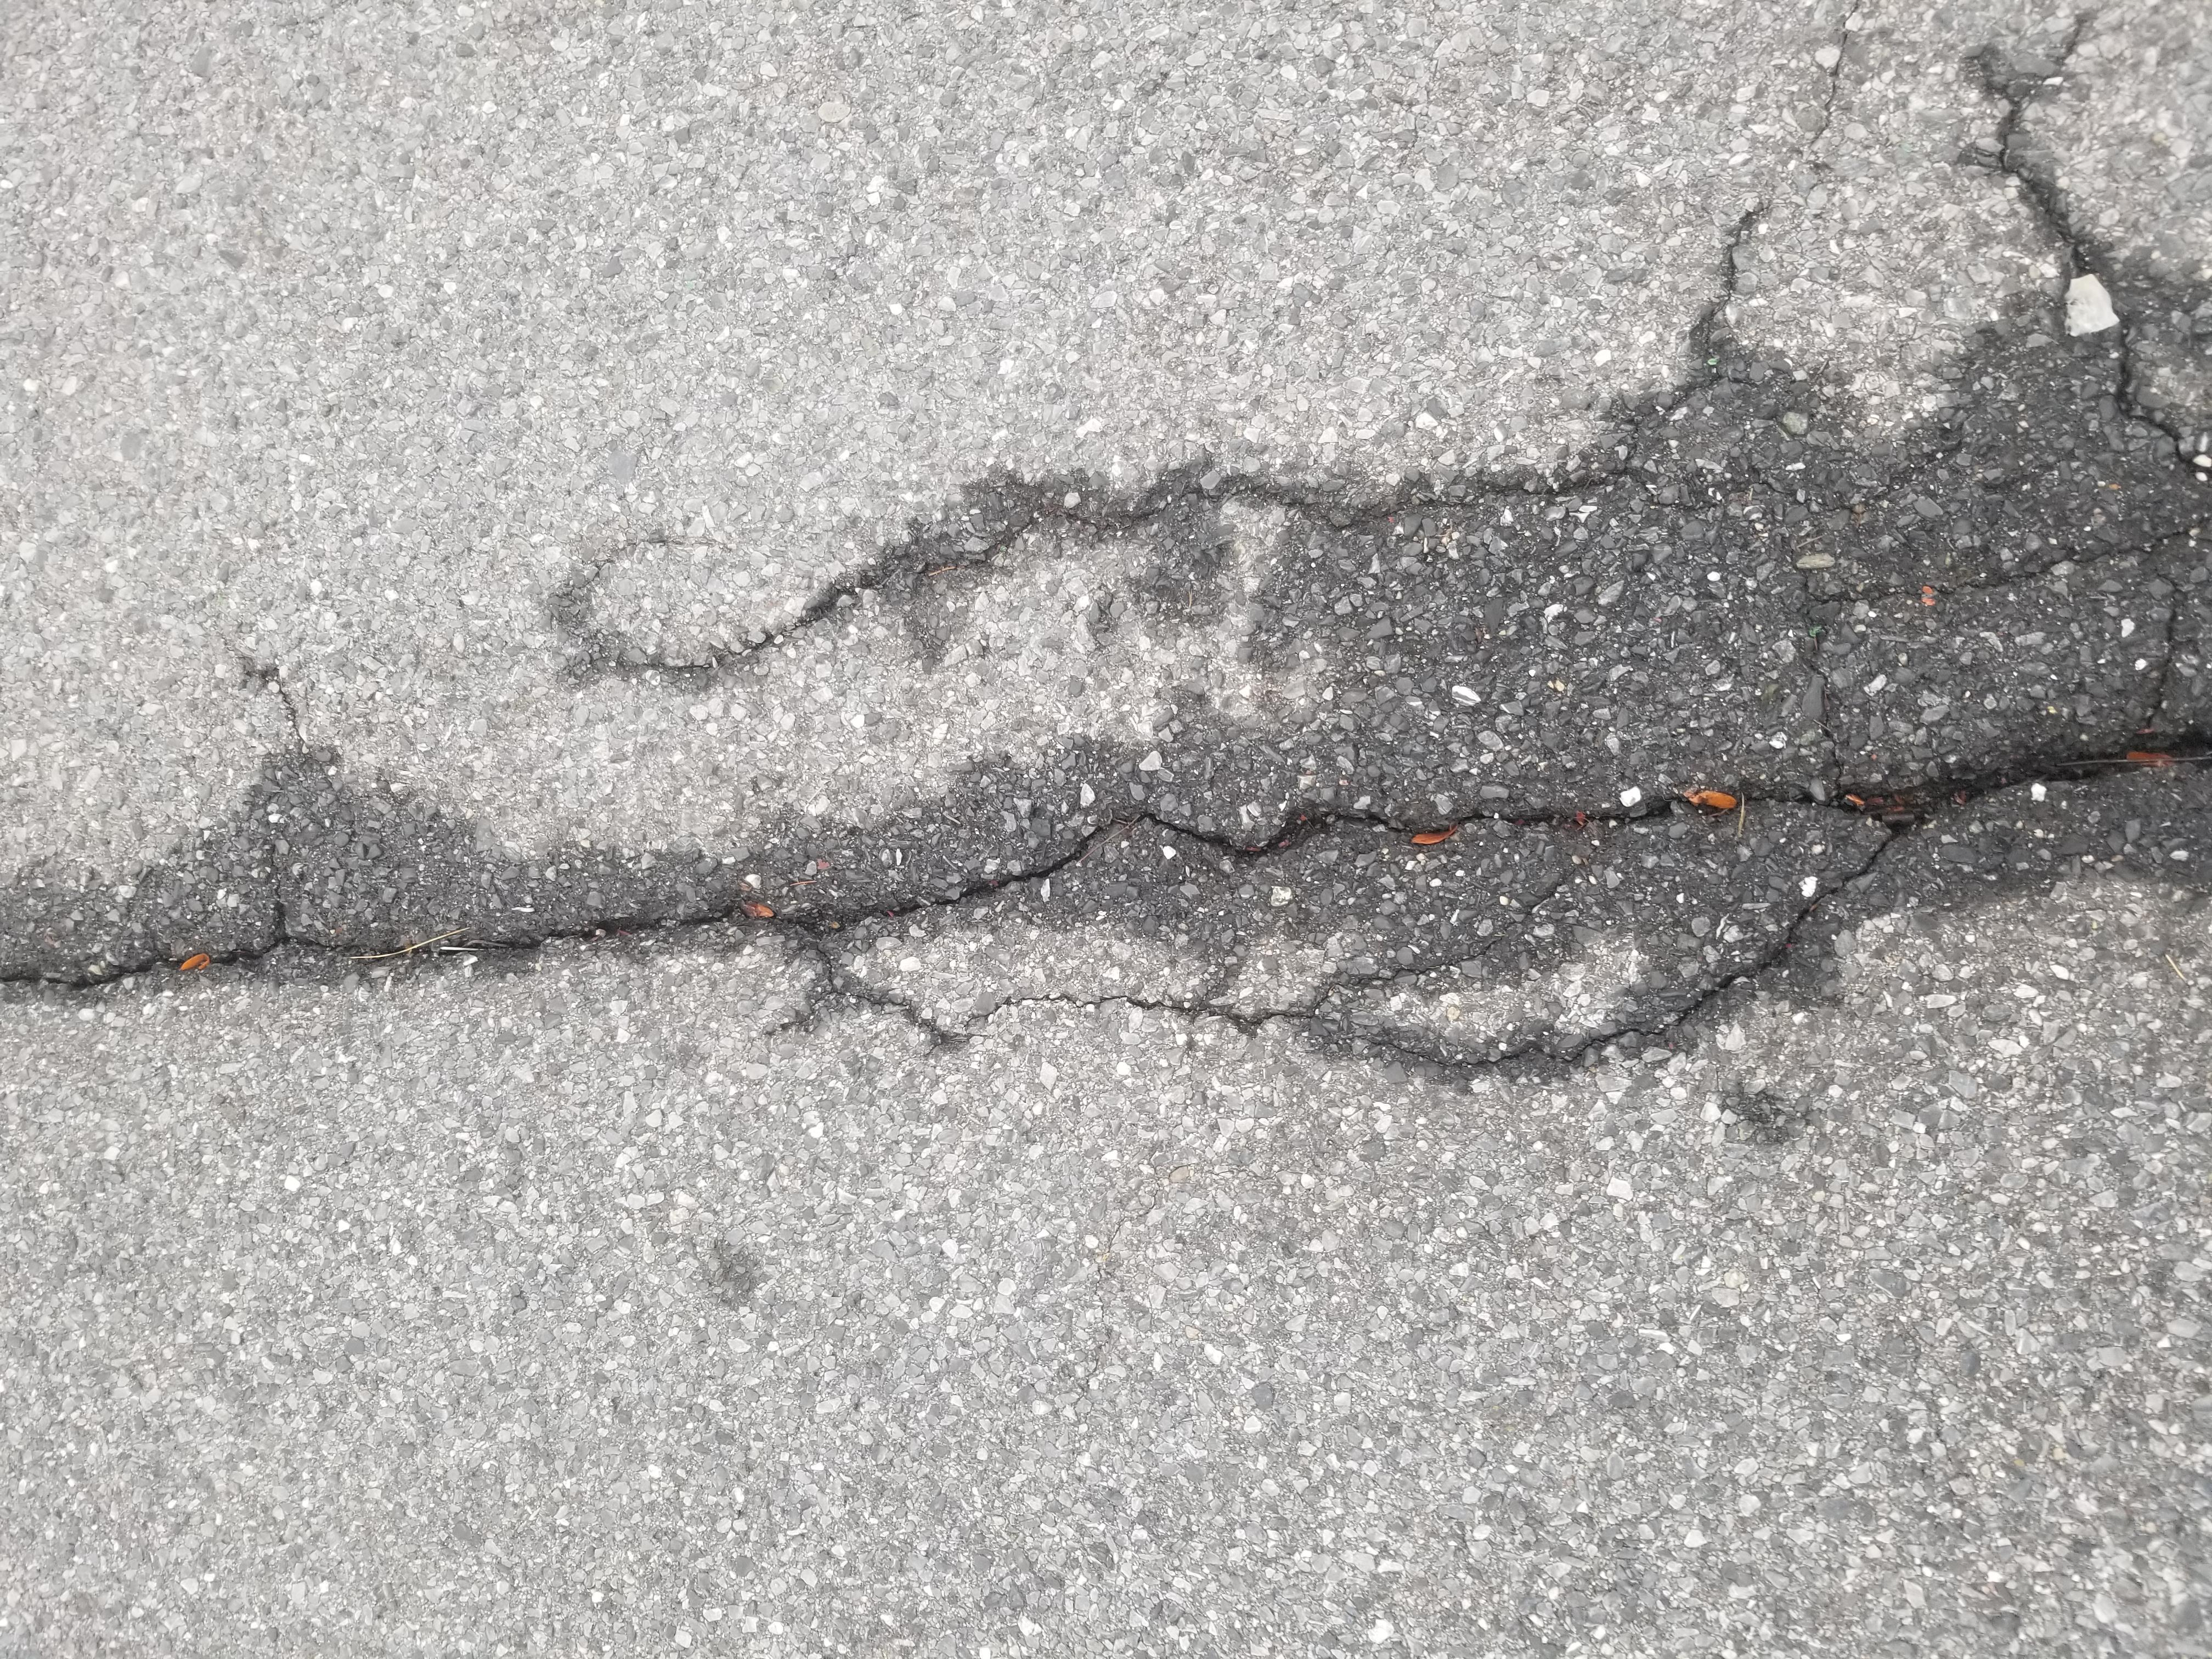crack: (690, 26, 1794, 1652)
